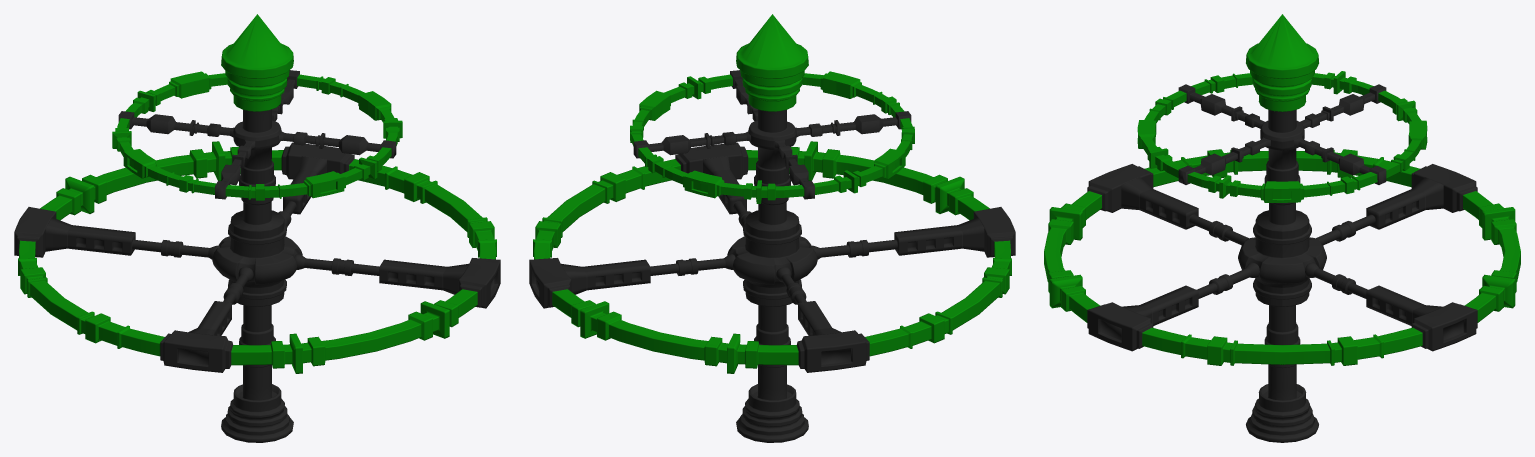
Rendered from situation_green.glb.
The picture shows the model from 3 angles, left to right: view 1: azimuth 30°, elevation 25°; view 2: azimuth 150°, elevation 25°; view 3: azimuth 270°, elevation 25°; orthographic projection.
Parts seen in each view (by area): view 1: external_smaller; view 2: external_smaller; view 3: external_smaller.
Boxes of the visible parts, <box> form: external_smaller: <box>14,14,500,442</box>; external_smaller: <box>529,14,1015,442</box>; external_smaller: <box>1044,14,1520,442</box>.
Size of the model in its own units: 7.45 by 7.14 by 7.45.
